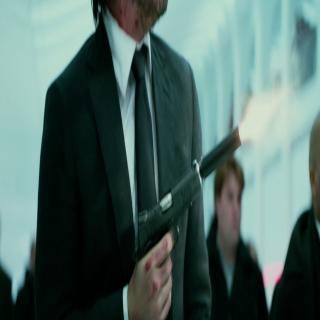gun: (137, 125, 241, 309)
